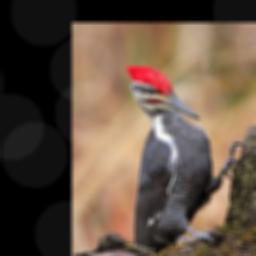Woodpecker: (126, 63, 247, 252)
